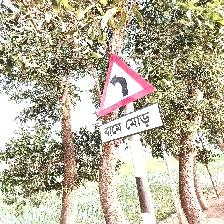Left-Turn: (96, 53, 164, 146)
